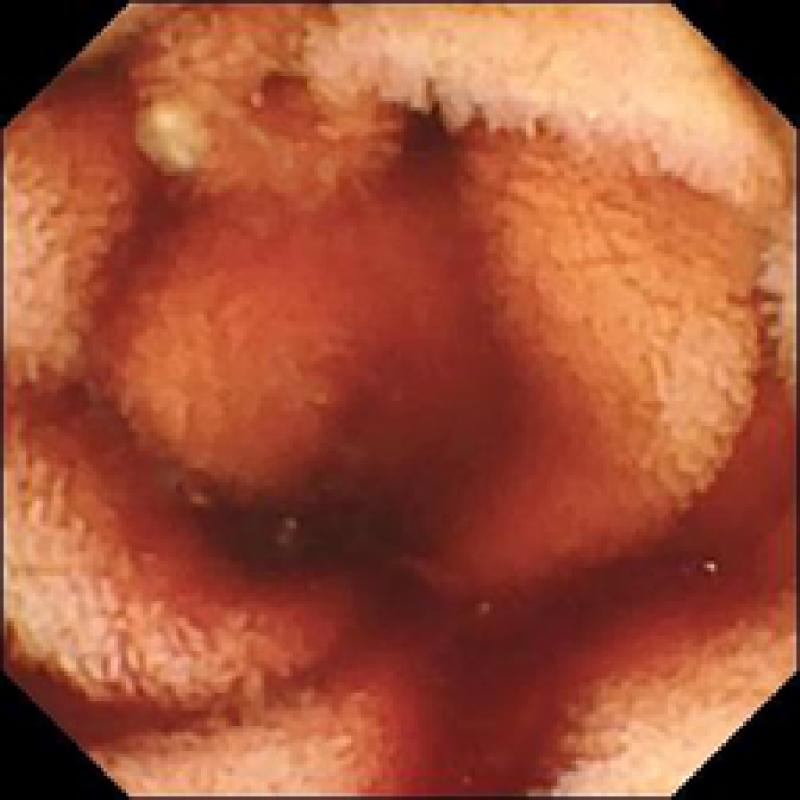bleeding: (43, 175, 778, 796)
